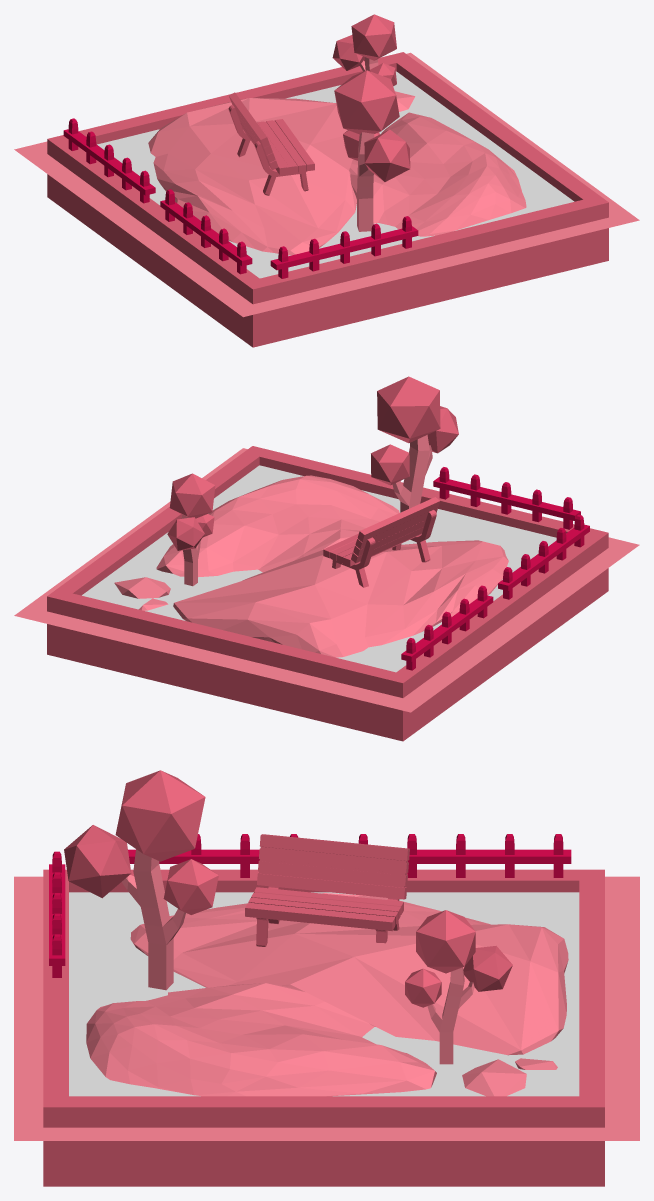
File: Park_pink.fbx
3 renders of one model, top to bottom at view 1: azimuth 30°, elevation 25°; view 2: azimuth 150°, elevation 25°; view 3: azimuth 270°, elevation 25°, orthographic. The views are drawn at different scales.
Parts seen in each view (by area): view 1: Plane.001, Icosphere, Icosphere.001, Plane, Icosphere.007, Cube.023, Icosphere.005, Cube.021, Cube.024, Cube.022; view 2: Plane.001, Icosphere, Icosphere.001, Plane, Icosphere.007, Cube.023, Icosphere.005, Cube.021, Cube.022, Cube.024, Icosphere.006; view 3: Plane.001, Icosphere, Icosphere.001, Plane, Icosphere.007, Cube.023, Icosphere.005, Cube.024, Cube.021, Icosphere.006, Cube.022.
Part boxes in pixels (box(x1,y1,x2,y2)): Plane.001: box(47, 52, 608, 347); Icosphere: box(148, 98, 356, 255); Icosphere.001: box(349, 112, 526, 236); Plane: box(14, 52, 639, 317); Icosphere.007: box(334, 70, 410, 231); Cube.023: box(228, 92, 314, 195); Icosphere.005: box(332, 14, 396, 85); Cube.021: box(270, 216, 418, 278); Cube.024: box(63, 118, 155, 203); Cube.022: box(160, 189, 252, 274); Plane.001: box(47, 446, 608, 741); Icosphere: box(173, 540, 508, 657); Icosphere.001: box(156, 475, 399, 577); Plane: box(14, 448, 639, 712); Icosphere.007: box(371, 376, 458, 512); Cube.023: box(323, 497, 439, 587); Icosphere.005: box(167, 473, 215, 586); Cube.021: box(433, 467, 580, 529); Cube.022: box(498, 514, 589, 599); Cube.024: box(401, 585, 493, 670); Icosphere.006: box(114, 577, 170, 598); Plane.001: box(43, 869, 604, 1186); Icosphere: box(130, 893, 568, 1055); Icosphere.001: box(86, 983, 436, 1096); Plane: box(14, 876, 639, 1140); Icosphere.007: box(64, 770, 218, 990); Cube.023: box(245, 834, 409, 946); Icosphere.005: box(405, 910, 512, 1064); Cube.024: box(358, 834, 571, 877); Cube.021: box(49, 851, 65, 977); Icosphere.006: box(462, 1059, 526, 1096); Cube.022: box(128, 834, 298, 877).
Bounding box in the file's own units: 1000 × 500 × 1000.
